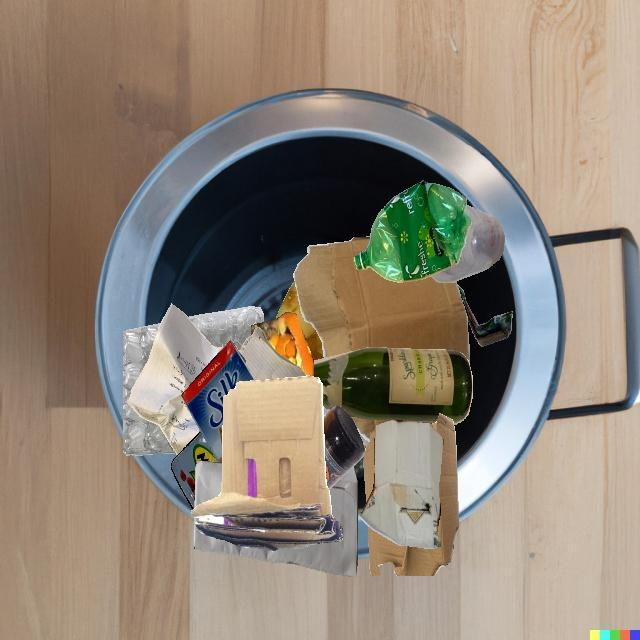biowaste: (252, 312, 314, 377), (276, 280, 324, 360)
cardboard: (191, 376, 342, 551), (293, 236, 469, 364), (368, 413, 459, 576), (359, 420, 443, 548), (181, 340, 254, 463), (457, 285, 512, 347)
glass: (313, 347, 472, 424), (323, 406, 365, 490)
paper: (193, 466, 358, 577), (128, 303, 223, 455), (239, 327, 306, 380)
plastic: (354, 180, 471, 283), (123, 323, 176, 456), (430, 205, 505, 283), (188, 307, 264, 351)
trash: (171, 431, 218, 510)
